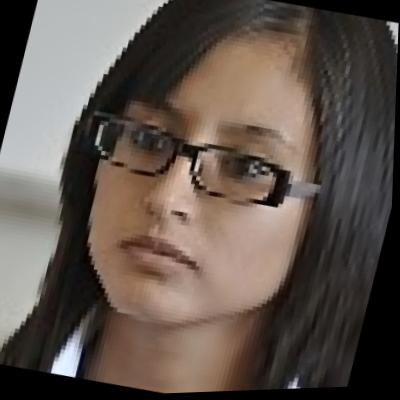sad: (68, 14, 346, 342)
